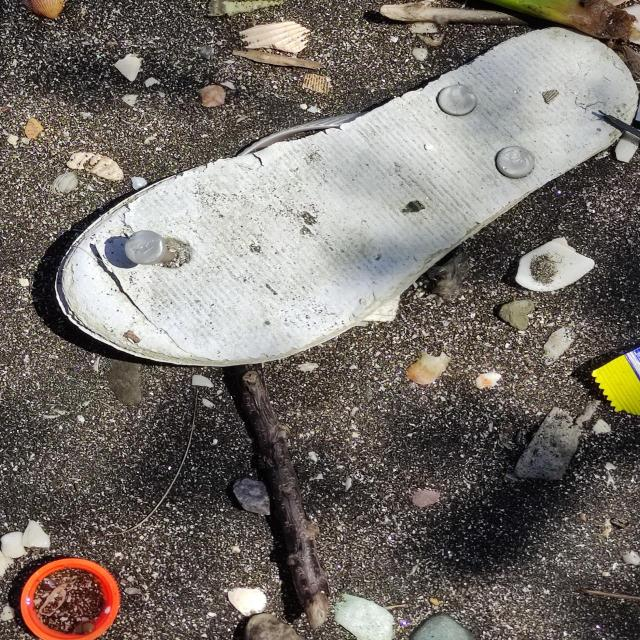plastic_waste: (53, 24, 640, 368), (22, 555, 125, 639), (590, 346, 640, 419)
